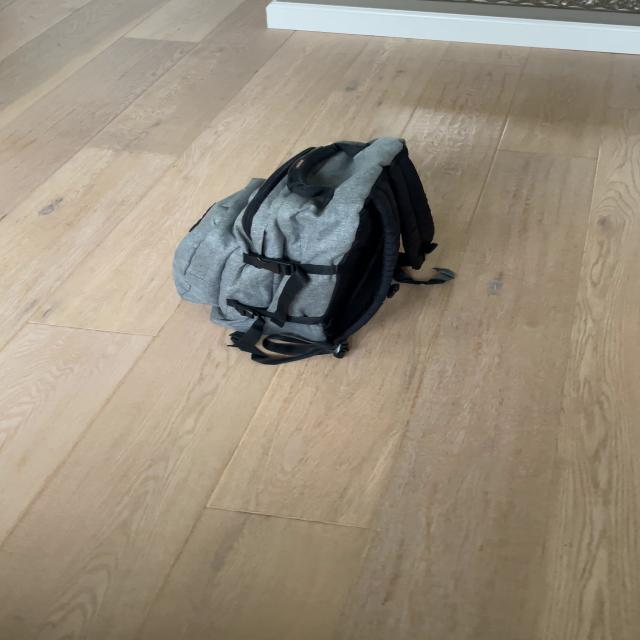backpack: (161, 127, 447, 370)
